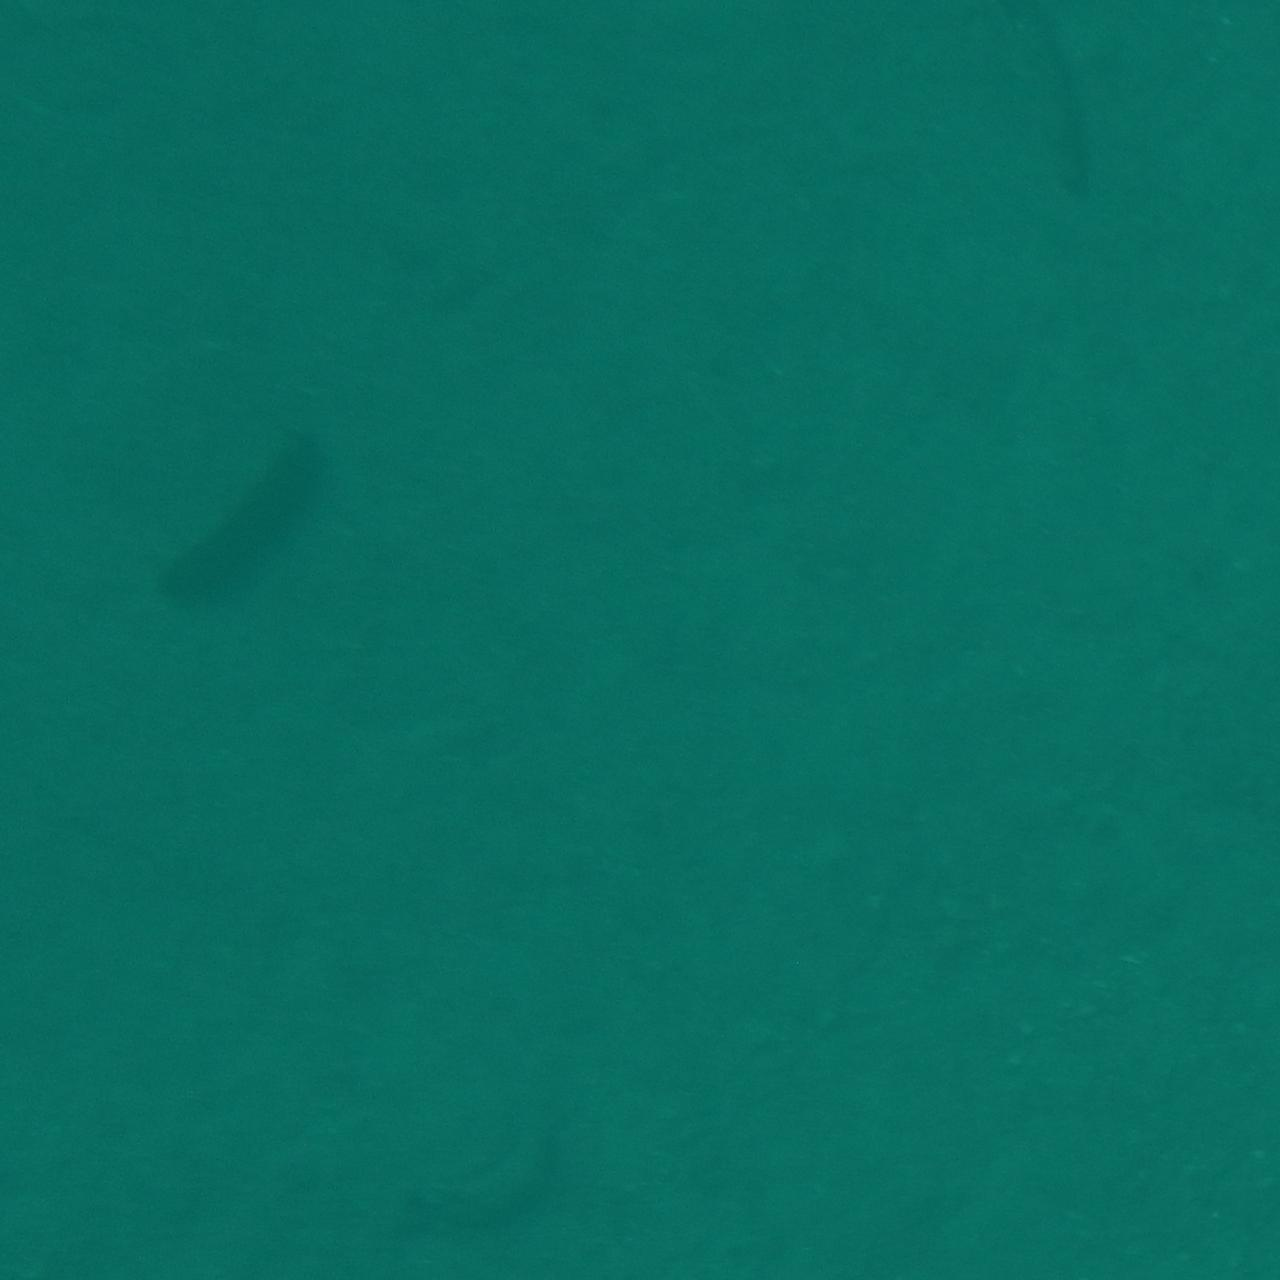Holothuria tubulosa: (137, 407, 359, 658), (390, 1089, 635, 1276), (953, 0, 1114, 234)
